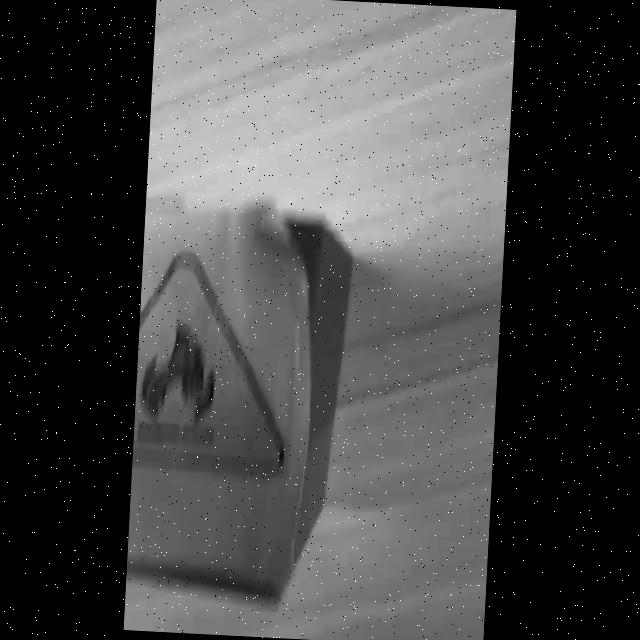Fire: (132, 252, 285, 476)
